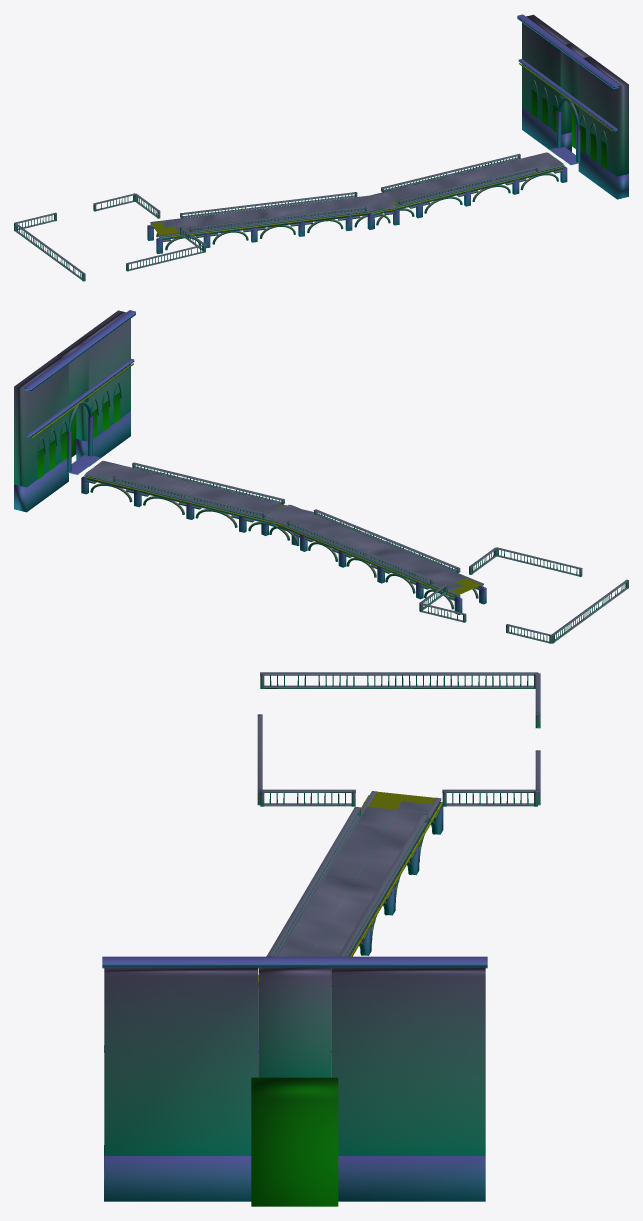
Rendered from sunken_vey_walks_e.glb.
3 views of the same model, one above another, from view 1: azimuth 30°, elevation 25°; view 2: azimuth 150°, elevation 25°; view 3: azimuth 270°, elevation 25° (orthographic). The views are drawn at different scales.
Parts seen in each view (by area): view 1: sunken_vey_walks_e; view 2: sunken_vey_walks_e; view 3: sunken_vey_walks_e.
Part boxes in pixels (x1=…): sunken_vey_walks_e: x1=14, y1=14, x2=628, y2=281; sunken_vey_walks_e: x1=14, y1=310, x2=628, y2=643; sunken_vey_walks_e: x1=102, y1=672, x2=540, y2=1206.
Size of what is drawn, in the model's own units: 70.35 by 15.57 by 25.23.
